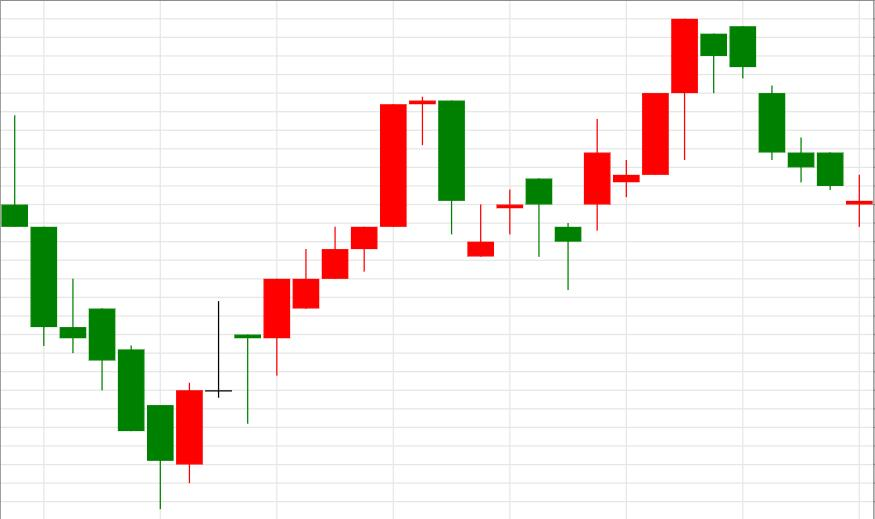evening_star_fall: (176, 97, 466, 483)
